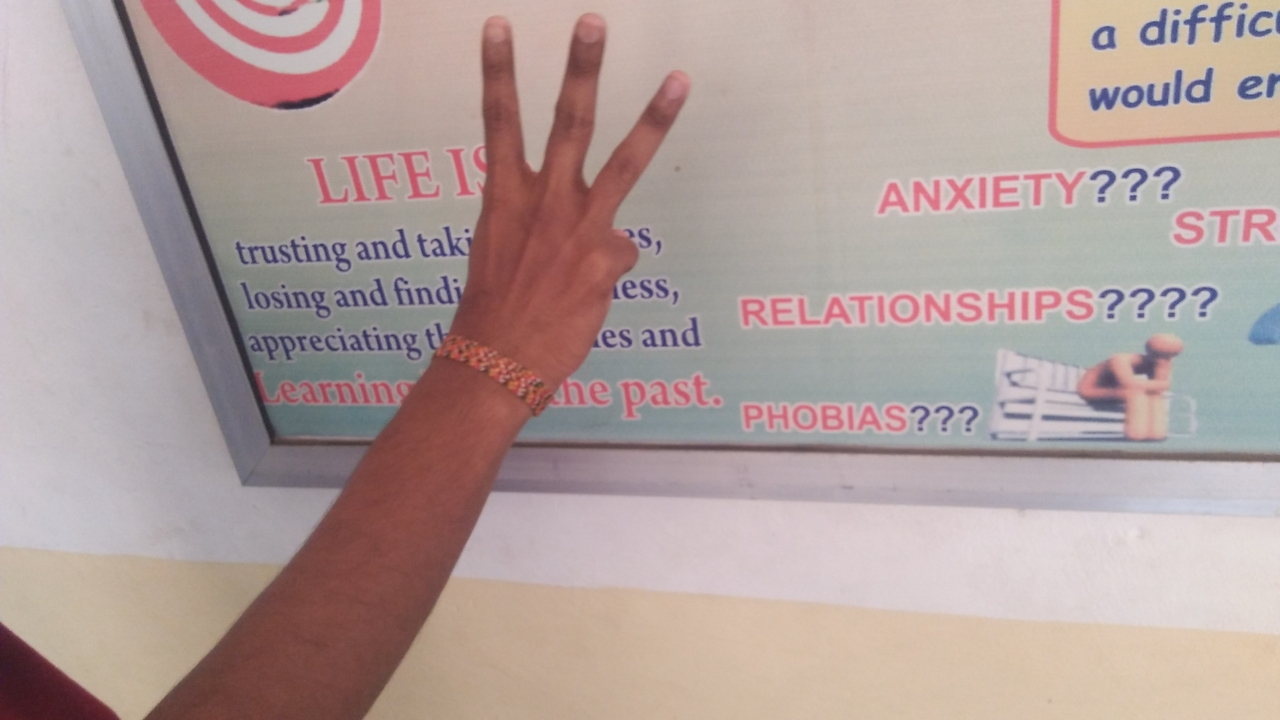fingertip: (644, 58, 698, 106), (564, 4, 614, 54), (472, 2, 520, 52)
